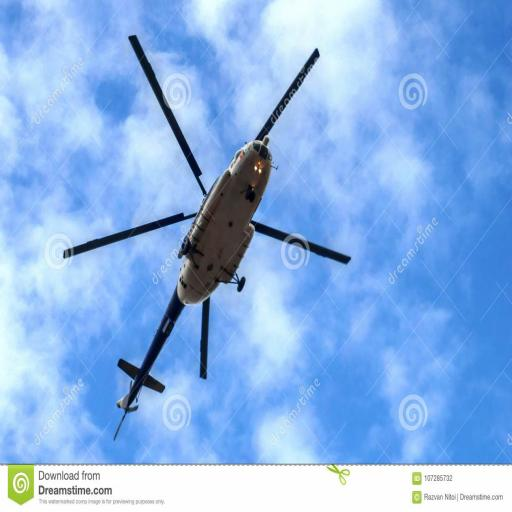helicopter: (62, 37, 352, 443)
